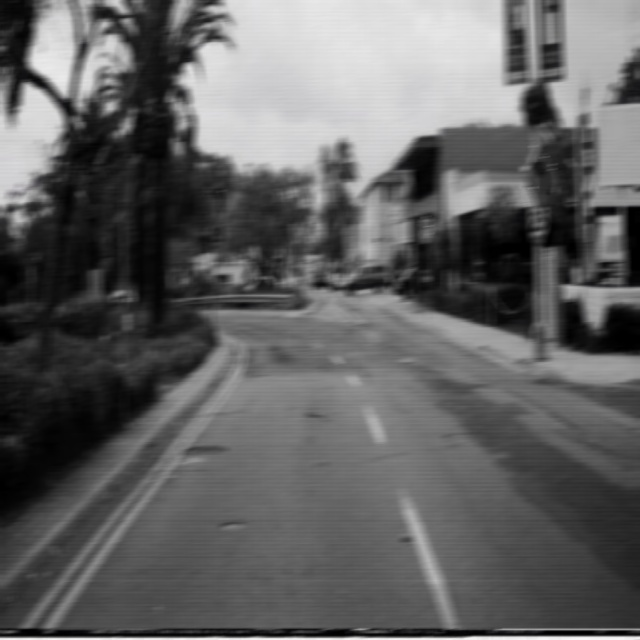curveLeft: (523, 143, 557, 211), (206, 174, 228, 223)
zoneAhead25: (420, 215, 431, 240)
